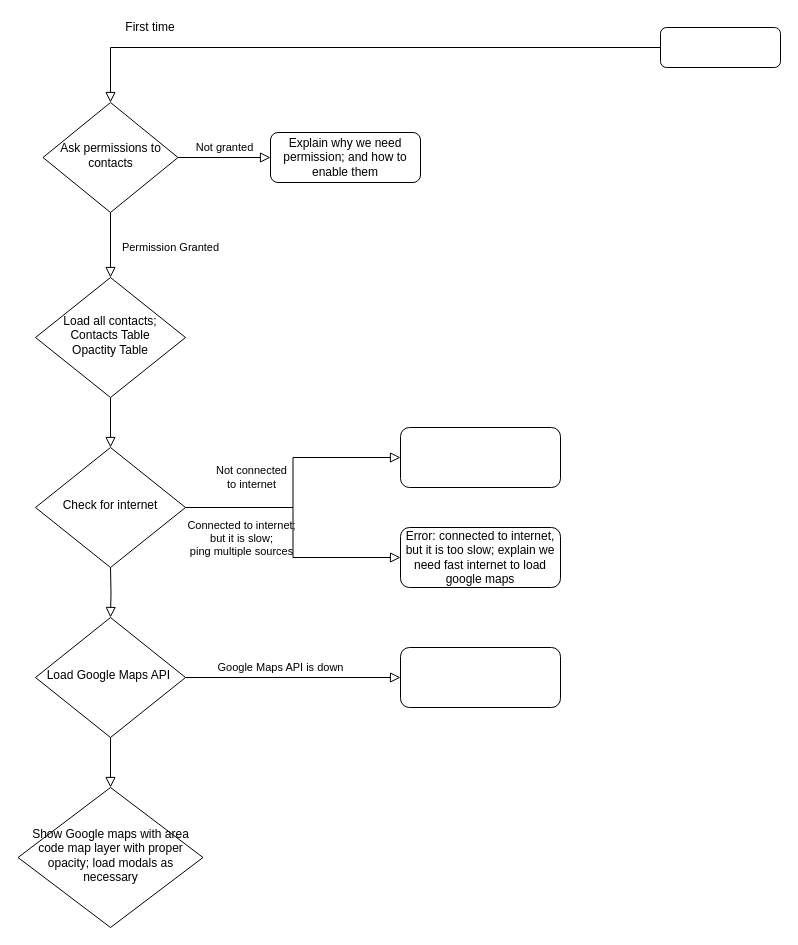
This 798x945 diagram has some shape labels left out. The centre of each missing label's shape, as x and y in pixels:
Error: Google Maps API is down; try again later: (x=480, y=677)
Error: not connected to internet; explain we need internet to load google maps: (x=480, y=457)
User Opens App: (x=720, y=47)
